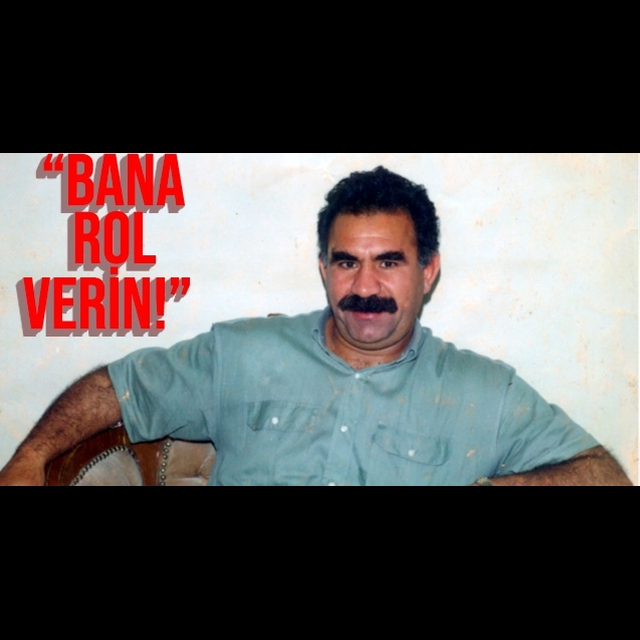APO: (309, 173, 444, 359)
